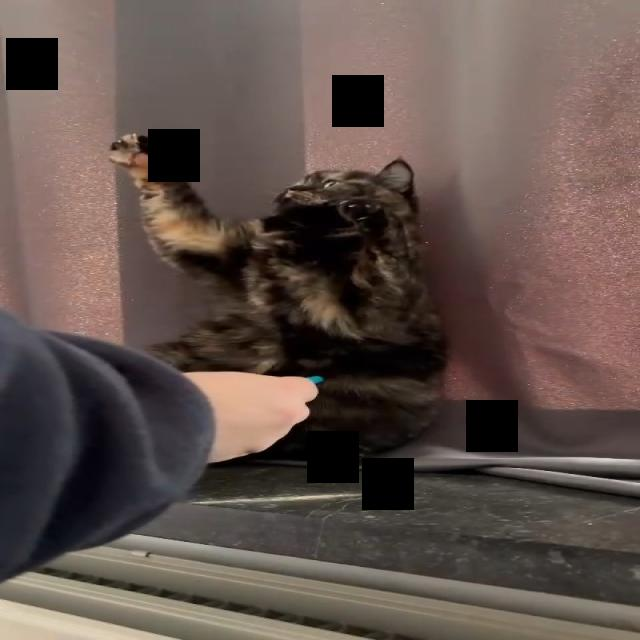authorized: (107, 132, 449, 467)
